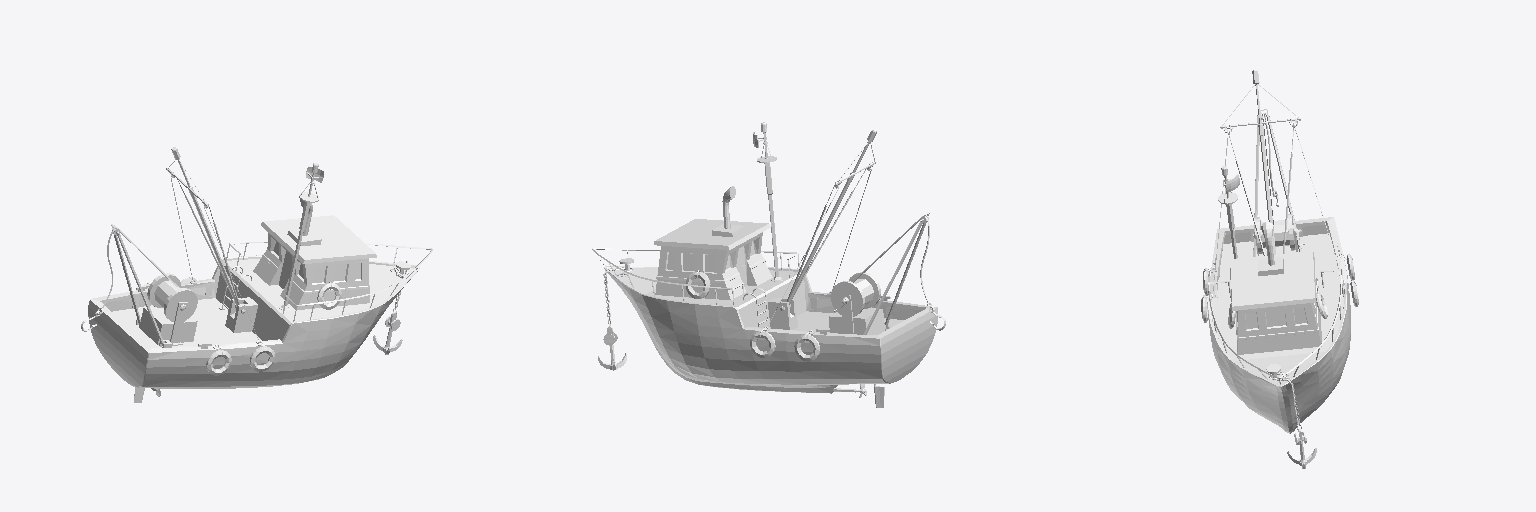
File: boat.obj
The picture shows the model from 3 angles: view 1: azimuth 30°, elevation 25°; view 2: azimuth 150°, elevation 25°; view 3: azimuth 270°, elevation 25°; orthographic projection.
Parts seen in each view (by area): view 1: mesh_id23, mesh_id22; view 2: mesh_id23, mesh_id22; view 3: mesh_id23, mesh_id22.
Part boxes in pixels (x1,y1,x2,y2): mesh_id23: (88,244,430,388); mesh_id22: (81,147,432,402); mesh_id23: (595,250,937,393); mesh_id22: (592,122,945,407); mesh_id23: (1201,217,1358,468); mesh_id22: (1201,70,1356,378).
Size of the model in its own units: 83731 by 63697 by 32494.